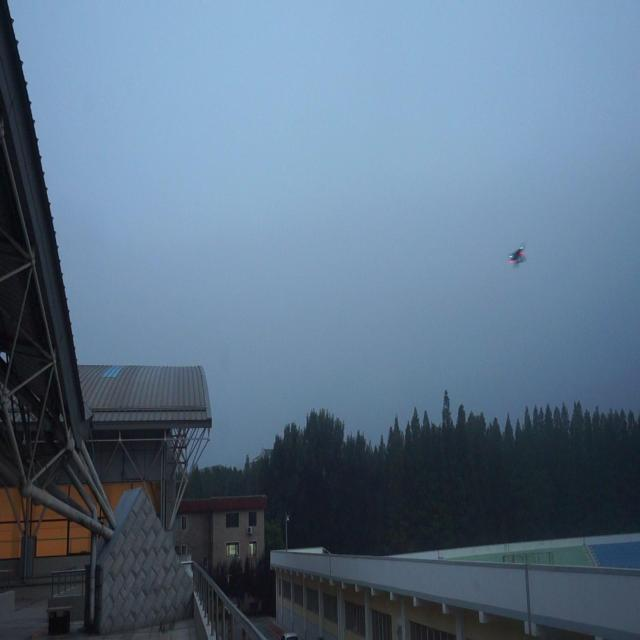drone: (505, 243, 529, 270)
